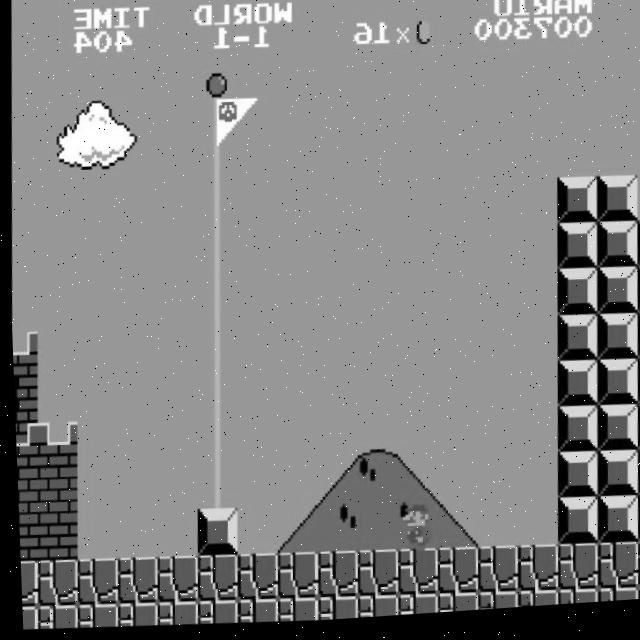11- little_mario: (391, 506, 437, 558)
17- undestructible_block: (70, 557, 115, 607), (590, 549, 635, 598), (190, 556, 235, 605), (150, 556, 195, 605), (110, 557, 155, 606), (30, 558, 75, 607), (551, 549, 595, 599), (471, 550, 515, 600), (311, 553, 355, 603), (511, 550, 555, 599), (431, 551, 475, 600), (391, 552, 435, 601), (351, 553, 395, 602), (271, 554, 315, 603), (231, 555, 275, 604), (311, 598, 354, 625), (111, 602, 154, 629), (271, 600, 314, 626), (231, 600, 274, 626), (191, 601, 234, 627), (151, 602, 194, 628), (71, 603, 114, 629), (31, 604, 74, 630), (351, 598, 394, 623), (391, 597, 434, 620), (431, 596, 474, 618), (16, 558, 35, 606), (471, 596, 514, 616), (511, 595, 554, 614), (551, 595, 594, 612), (591, 594, 634, 610), (631, 549, 640, 596), (18, 604, 34, 628), (631, 594, 640, 608)
7- goal_pole: (193, 97, 238, 147), (193, 52, 238, 101), (192, 235, 237, 284), (192, 372, 236, 422), (193, 189, 237, 238), (192, 281, 236, 330), (192, 418, 236, 467), (191, 464, 235, 513), (193, 144, 237, 192), (192, 327, 236, 375)
9- hard_block: (552, 274, 597, 324), (592, 274, 637, 323), (591, 411, 636, 460), (591, 457, 636, 506), (552, 320, 597, 369), (551, 458, 596, 507), (592, 365, 636, 415), (551, 412, 596, 460), (593, 228, 637, 277), (591, 503, 635, 552), (553, 229, 597, 278), (552, 366, 596, 415), (551, 503, 595, 552), (191, 510, 235, 559), (593, 183, 637, 231), (592, 320, 636, 368), (553, 183, 597, 231), (632, 366, 640, 413), (632, 458, 640, 505), (632, 503, 640, 550), (632, 412, 640, 458), (632, 321, 640, 366), (633, 228, 640, 275), (633, 274, 640, 321)
